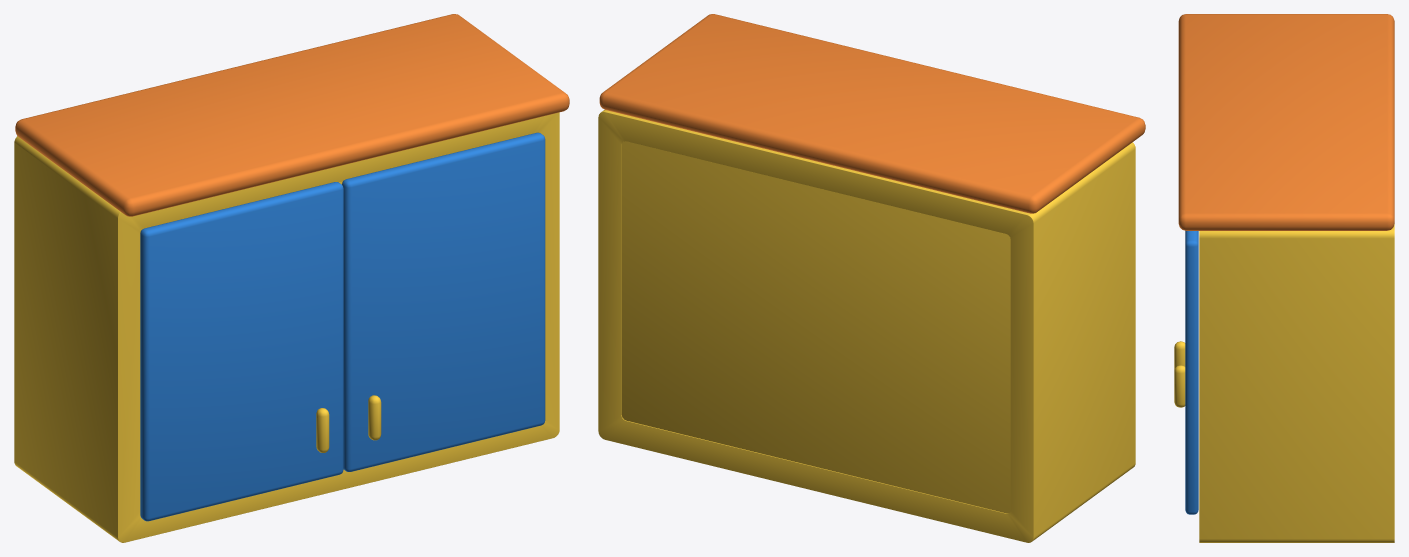
Rendered from armario_parede_2portas_moderna.glb.
3 views of the same model, side by side, from view 1: azimuth 30°, elevation 25°; view 2: azimuth 150°, elevation 25°; view 3: azimuth 270°, elevation 25° (orthographic). The views are drawn at different scales.
Parts seen in each view (by area): view 1: armario_parede_2portas_moderna, porta_1, porta_2; view 2: armario_parede_2portas_moderna; view 3: armario_parede_2portas_moderna, porta_2, porta_1.
Part boxes in pixels (left/top/right/bottom): armario_parede_2portas_moderna: left=14, top=14, right=569, bottom=542; porta_1: left=140, top=182, right=343, bottom=521; porta_2: left=342, top=132, right=545, bottom=471; armario_parede_2portas_moderna: left=598, top=14, right=1145, bottom=542; armario_parede_2portas_moderna: left=1178, top=14, right=1394, bottom=542; porta_2: left=1174, top=230, right=1198, bottom=514; porta_1: left=1174, top=341, right=1185, bottom=369.
Bounding box in the file's own units: 0.798 × 0.6 × 0.363.
Materials: 1 (1 with a texture image).
